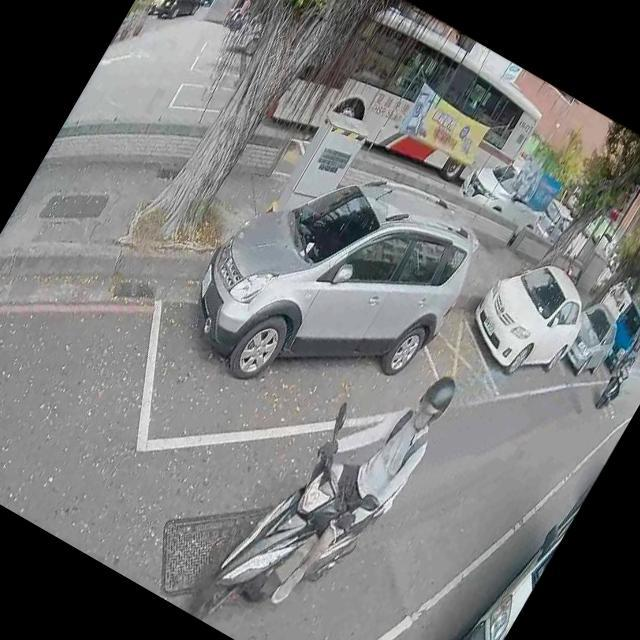person: (236, 331, 469, 636), (600, 350, 640, 404), (225, 0, 258, 32)
